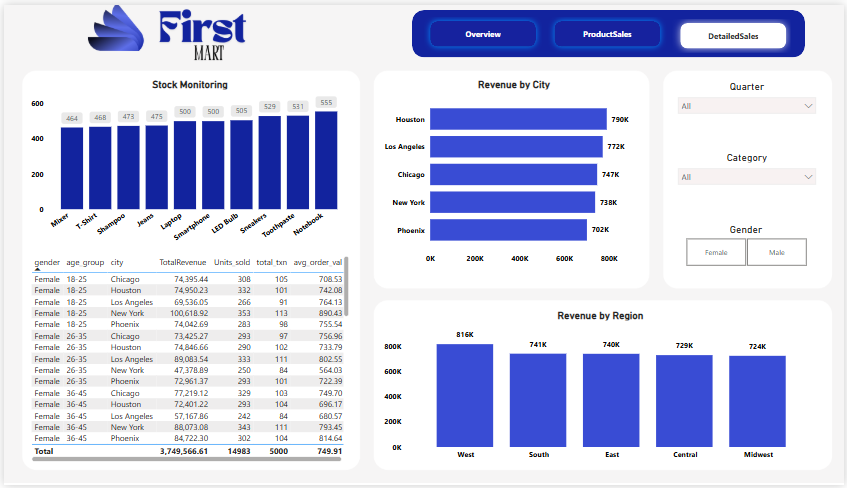

The dashboard page shown, as its layout file describes it:
{"tool":"powerbi","page":{"name":"DetailedSales","canvas":[1400,800],"ordinal":2},"visuals":[{"type":"shape","box":[679.3,8.6,655.2,79.3],"z":0},{"type":"tableEx","fields":{"Values":["Dim_Customer.gender","Dim_Customer.age_group","Dim_Customer.city","calcs.TotalRevenue","calcs.Units_sold","calcs.total_txn","calcs.avg_order_val"]},"box":[40,413.3,540,353.3],"z":1000},{"type":"lineStackedColumnComboChart","title":"Revenue by Region","fields":{"Category":["Dim_Store.Store_region"],"Y":["calcs.Total_revenue"]},"box":[628.3,506.7,731.7,260],"z":2000},{"type":"clusteredBarChart","title":"Revenue by City","fields":{"Category":["Dim_Store.Store_city"],"Y":["calcs.Total_revenue"]},"box":[628.3,121.7,443.3,320],"z":3000},{"type":"slicer","title":"Quarter","fields":{"Values":["Dim_Calendar.quarter"]},"box":[1112.6,124.3,250,100],"z":4000},{"type":"slicer","title":"Gender","fields":{"Values":["Dim_Customer.gender"]},"box":[1111.7,363.3,250,78.3],"z":5000},{"type":"slicer","title":"Category","fields":{"Values":["Dim_Product.category"]},"box":[1112.6,244,250,100],"z":6000},{"type":"columnChart","title":"Stock Monitoring","fields":{"Y":["CountNonNull(Dim_Inventory.current_stock)"],"Category":["Dim_Product.Product_name"]},"box":[40,121.7,540,291.7],"z":7000},{"type":"pageNavigator","box":[700,16,612.1,63.8],"z":7001}]}

Visuals, with their boxes in screenshot pixels (x1, y1, x2, y2), scaled from the page's 1400x800 canvas onto the 847x488 screenshot:
shape: detection(411, 5, 807, 54)
tableEx - Dim_Customer.gender x Dim_Customer.age_group: detection(24, 252, 351, 468)
"Revenue by Region" lineStackedColumnComboChart: detection(380, 309, 823, 468)
"Revenue by City" clusteredBarChart: detection(380, 74, 648, 269)
"Quarter" slicer: detection(673, 76, 824, 137)
"Gender" slicer: detection(673, 222, 824, 269)
"Category" slicer: detection(673, 149, 824, 210)
"Stock Monitoring" columnChart: detection(24, 74, 351, 252)
pageNavigator: detection(424, 10, 794, 49)
